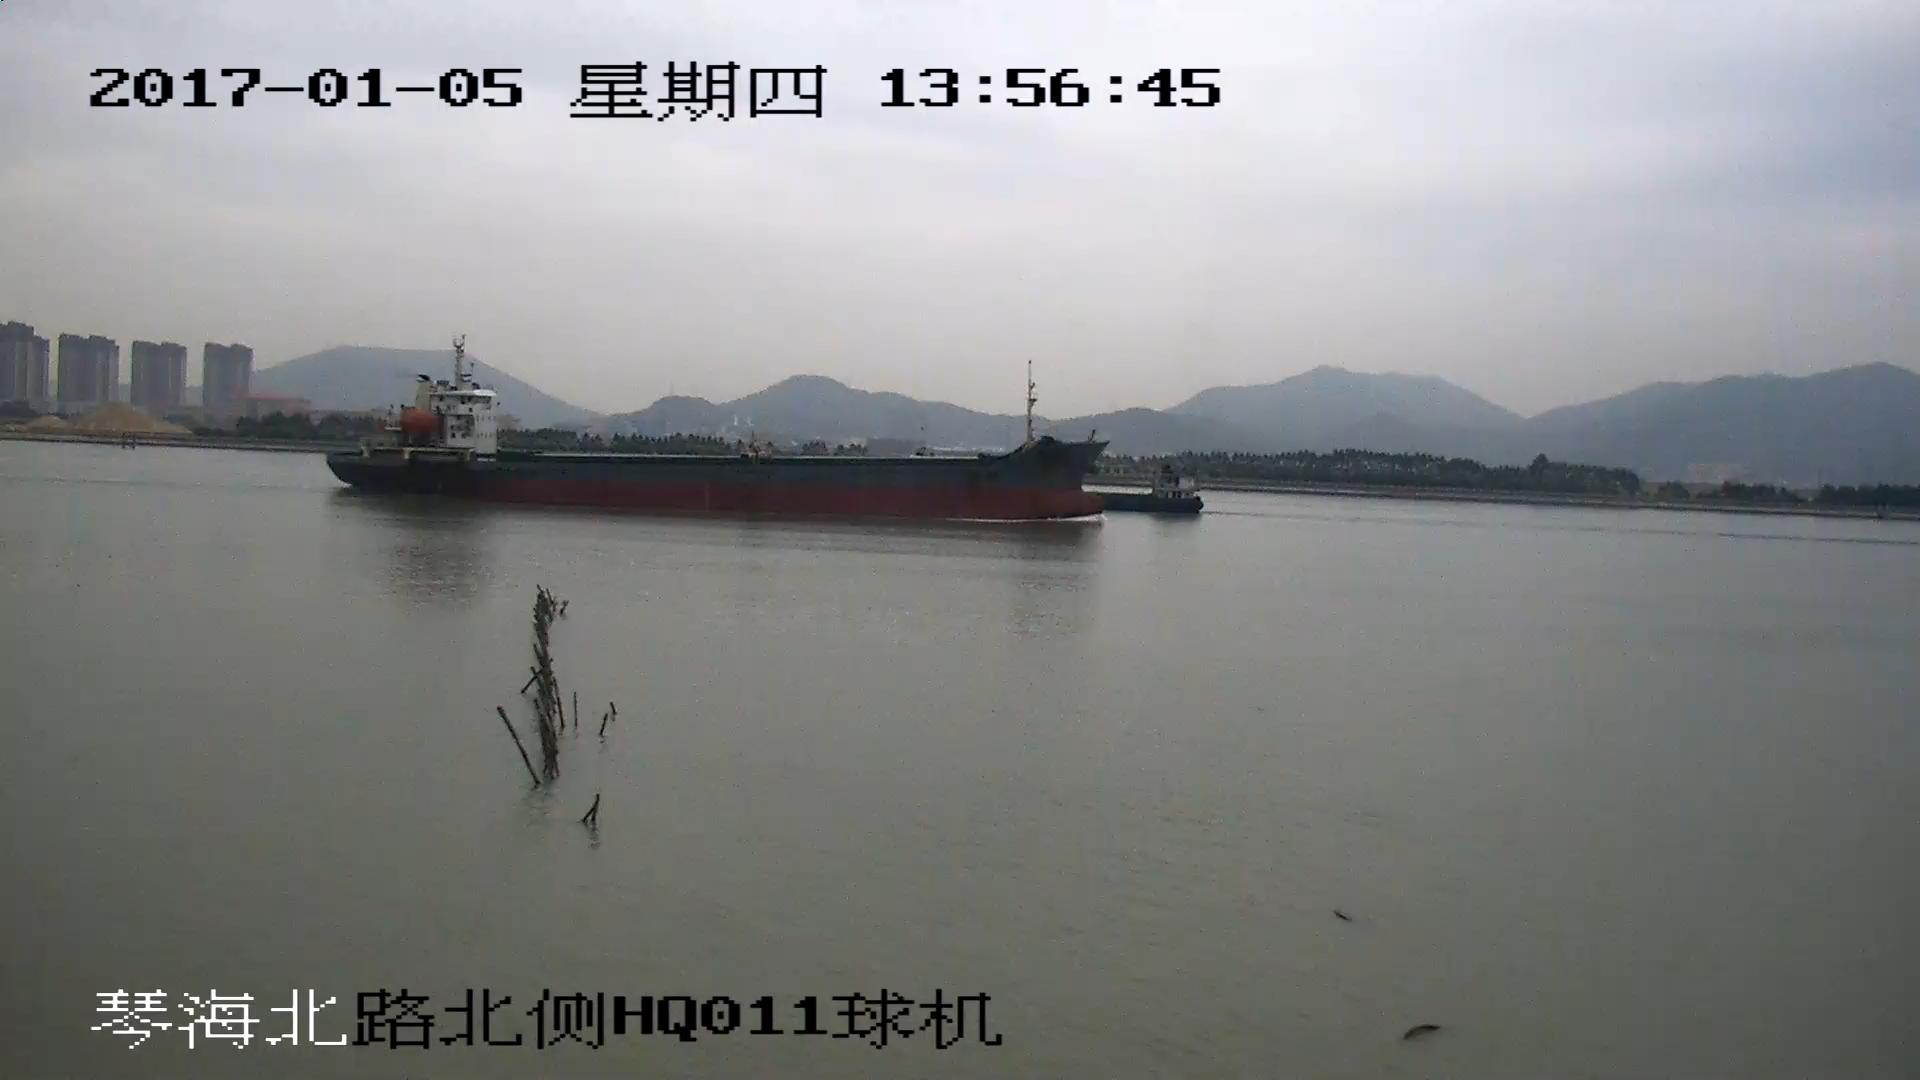general cargo ship: (314, 337, 1104, 522)
